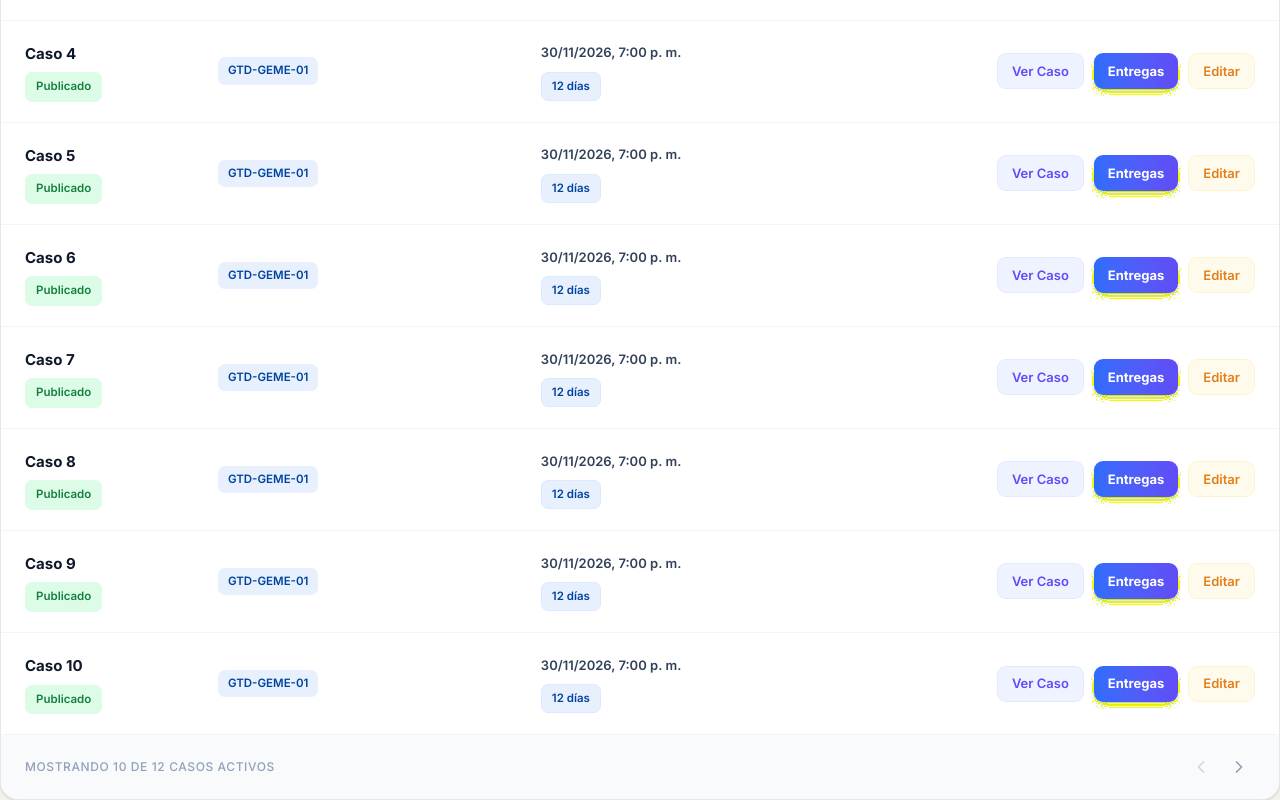
CasosActivosSection › handles client-side pagination and button boundaries
(page scrolled)
Expected: the text "Mostrando 10 de 12 casos activos" is shown, [25,757,275,777]
Expected: the button named "Página anterior" is disabled, [1185,751,1217,783]
Click the button named "Página siguiente". click: (1239, 767)
box: [1223,751,1255,783]
(page scrolled)
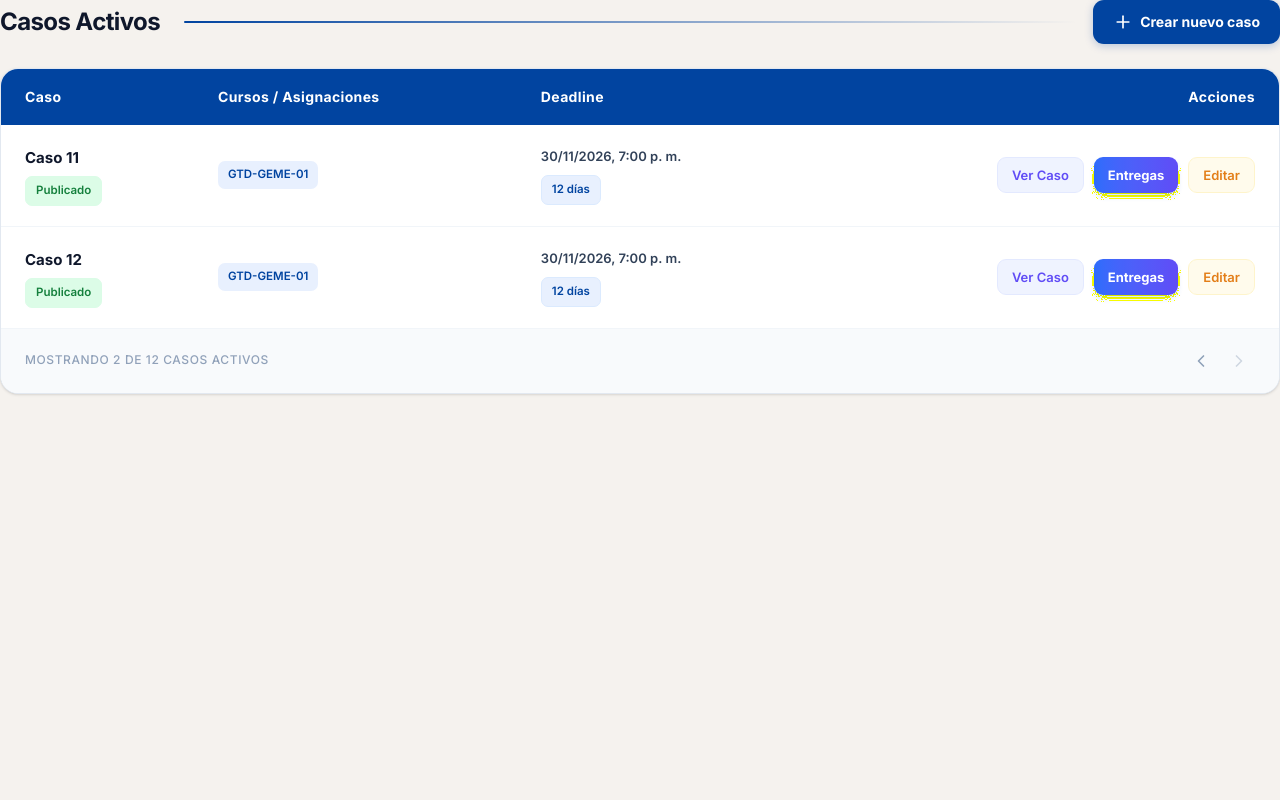
Expected: the text "Mostrando 2 de 12 casos activos" is shown, [25,350,269,371]
Expected: the text "Caso 12" is shown, [25,250,82,269]
Expected: the button named "Página anterior" is enabled, [1185,345,1217,377]
